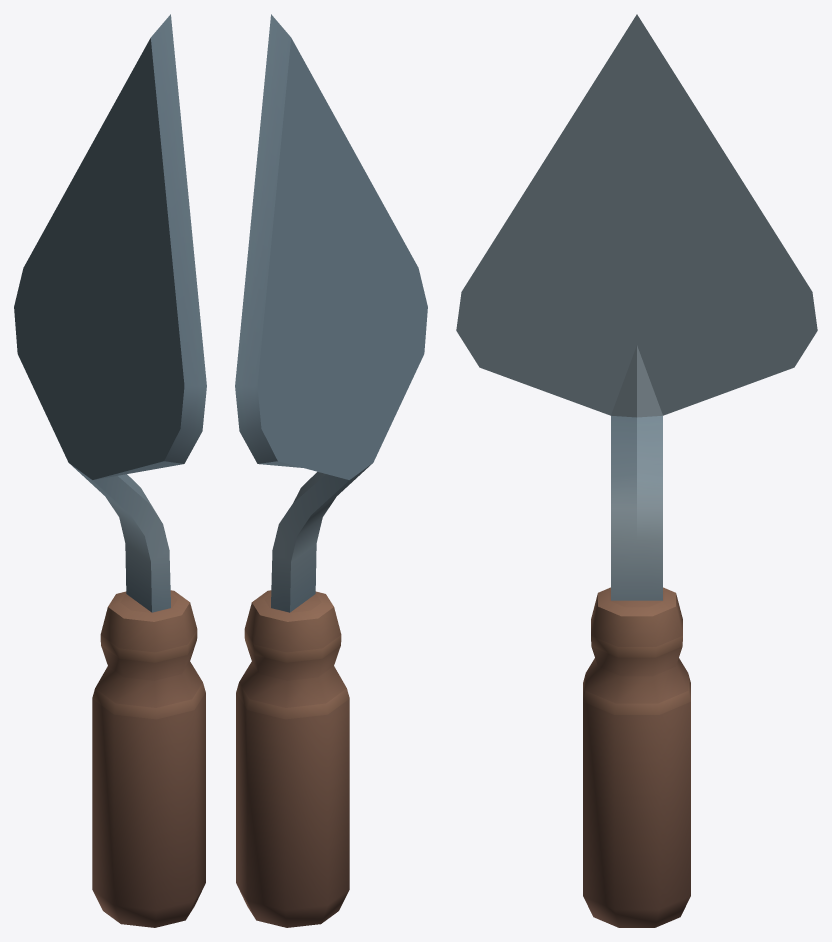
The model's file is prop-trowel.glb.
3 renders of one model, left to right at view 1: azimuth 30°, elevation 25°; view 2: azimuth 150°, elevation 25°; view 3: azimuth 270°, elevation 25°, orthographic.
Visible parts, largest first — view 1: trowel; view 2: trowel; view 3: trowel.
Part boxes in pixels (x1,y1,x2,y2): trowel: [14, 14, 206, 927]; trowel: [235, 14, 427, 927]; trowel: [456, 14, 817, 927].
Size of the model in its own units: 0.1887 by 1.42 by 0.5067.
1 material, 1 textured.
